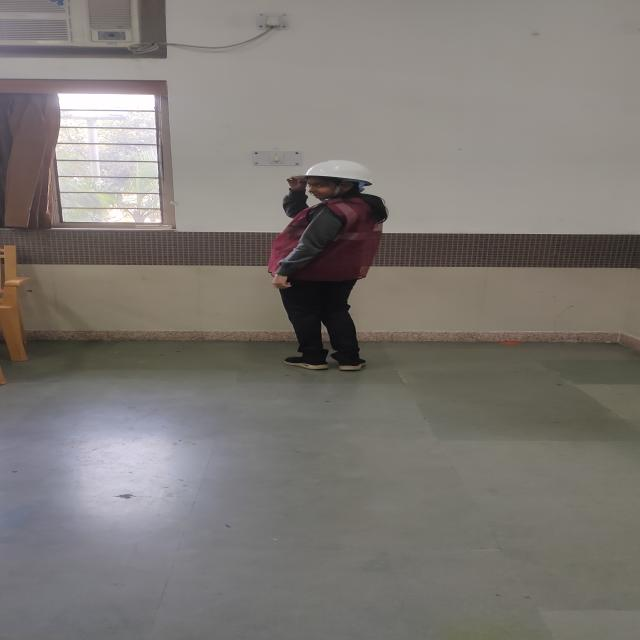safe: (269, 160, 383, 370)
